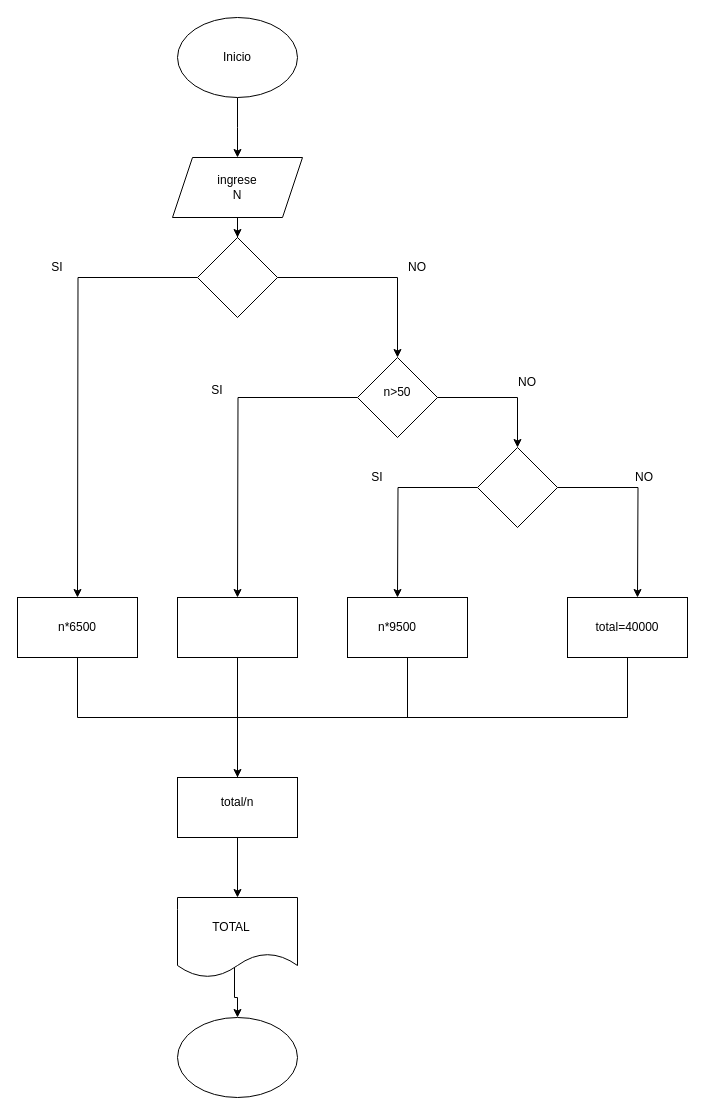
The diagram is 705 pixels wide and 1115 high, and some of its shapes have lost their labels. Here are the shapes that lost their labels. From the top down, the centre of each, then its label:
the point at 237,277: n>=100
the point at 517,487: n>30
the point at 237,627: N*7000
the point at 237,1057: fin
